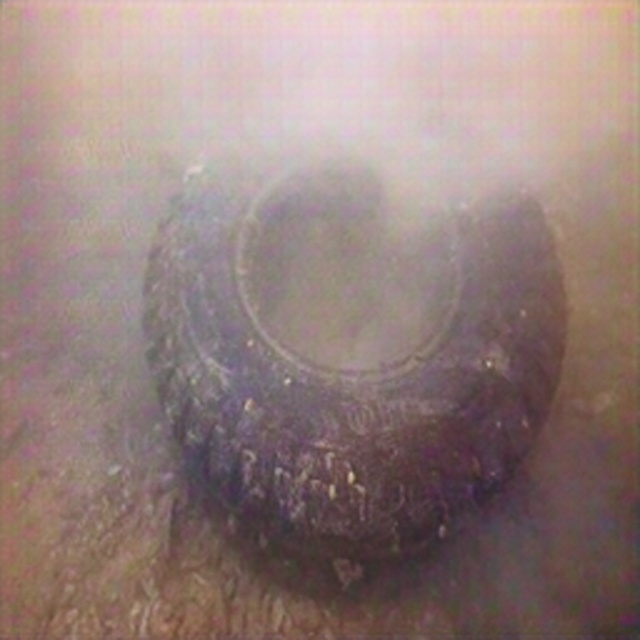mine: (141, 105, 569, 605)
